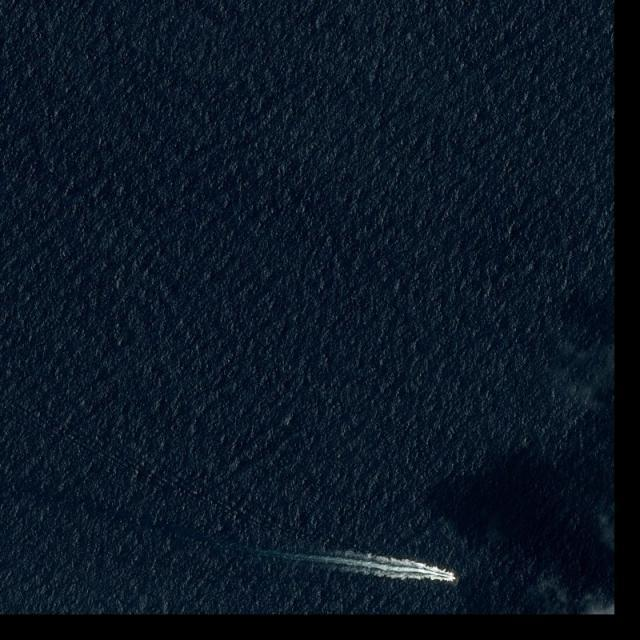ship: (448, 574, 460, 582)
